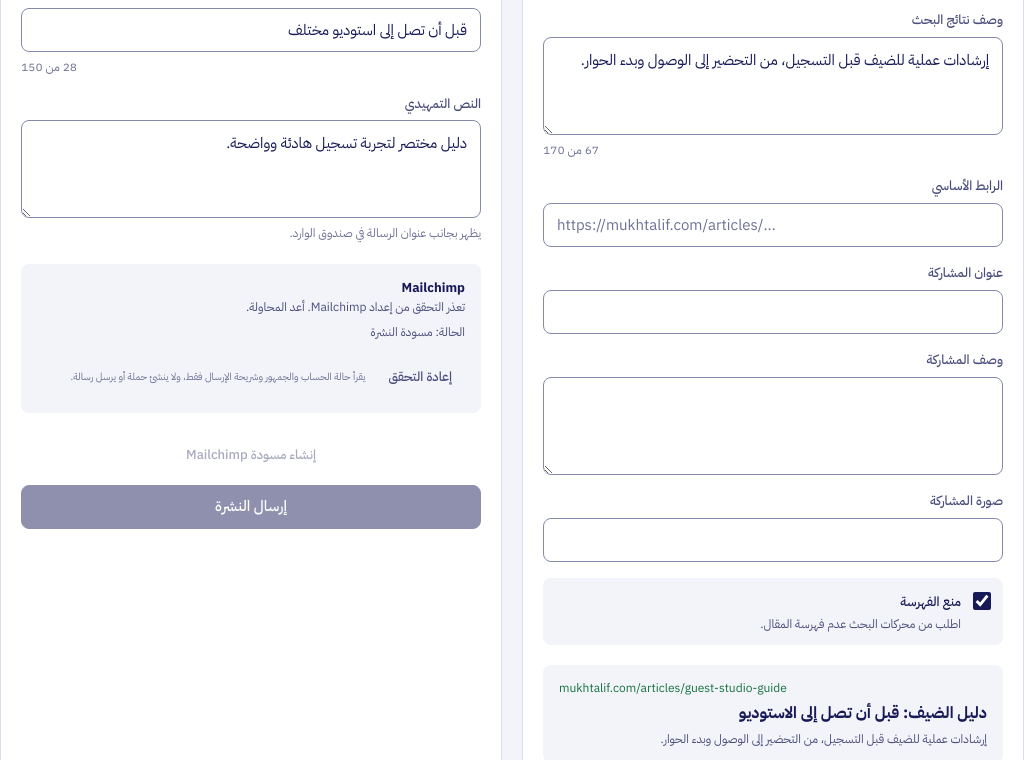
ArticleEditorView › rechecks Mailchimp safely without creating a campaign or sending a message
The width and height of the screenshot is (1024, 760).
(page scrolled)
expect the text "تعذر التحقق من إعداد Mailchimp. أعد المحاولة." is shown: met, box 246,298 -> 465,316
expect the text "يقرأ حالة الحساب والجمهور وشريحة الإرسال فقط، ولا ينشئ حملة أو يرسل رسالة." is shown: met, box 70,369 -> 365,385
What coordinates should you click on to do the following:
click the button "إعادة التحقق"
I would click on:
 (420, 377)
Its box is 375,355 -> 465,399.
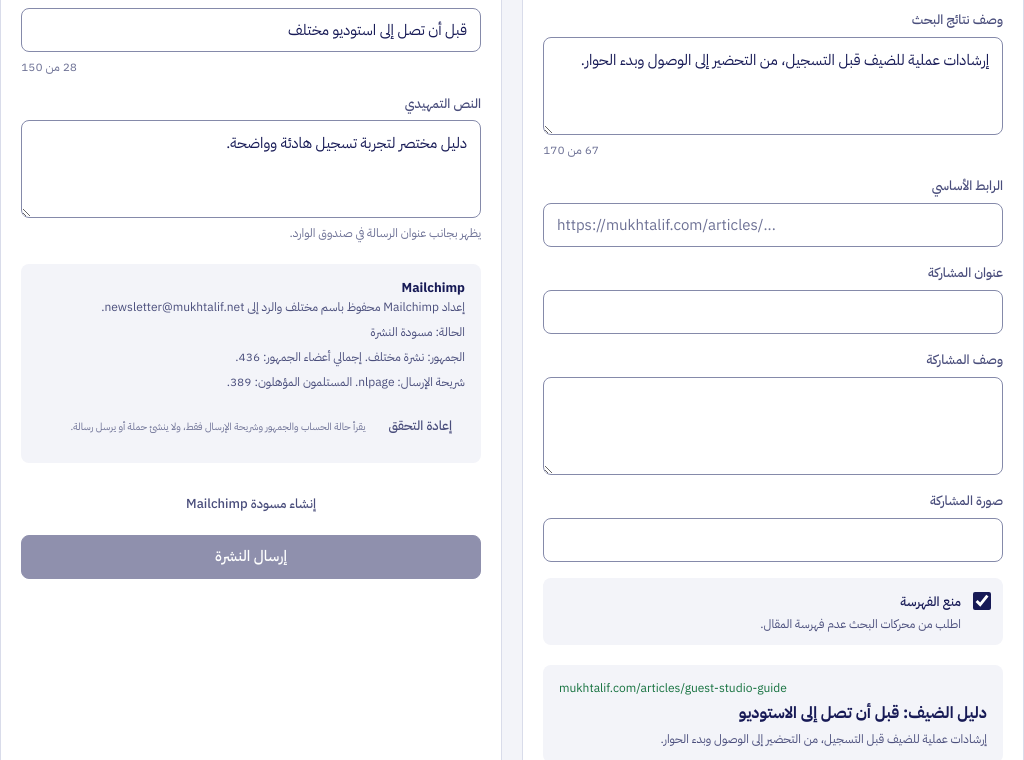
expect the text "إعداد Mailchimp محفوظ باسم مختلف" shows "الجمهور: نشرة مختلف. إجمالي أعضاء الجمهور: 436.": met, box 21,264 -> 481,463
expect the text "إعداد Mailchimp محفوظ باسم مختلف" shows "شريحة الإرسال: nlpage. المستلمون المؤهلون: 389.": met, box 21,264 -> 481,463
